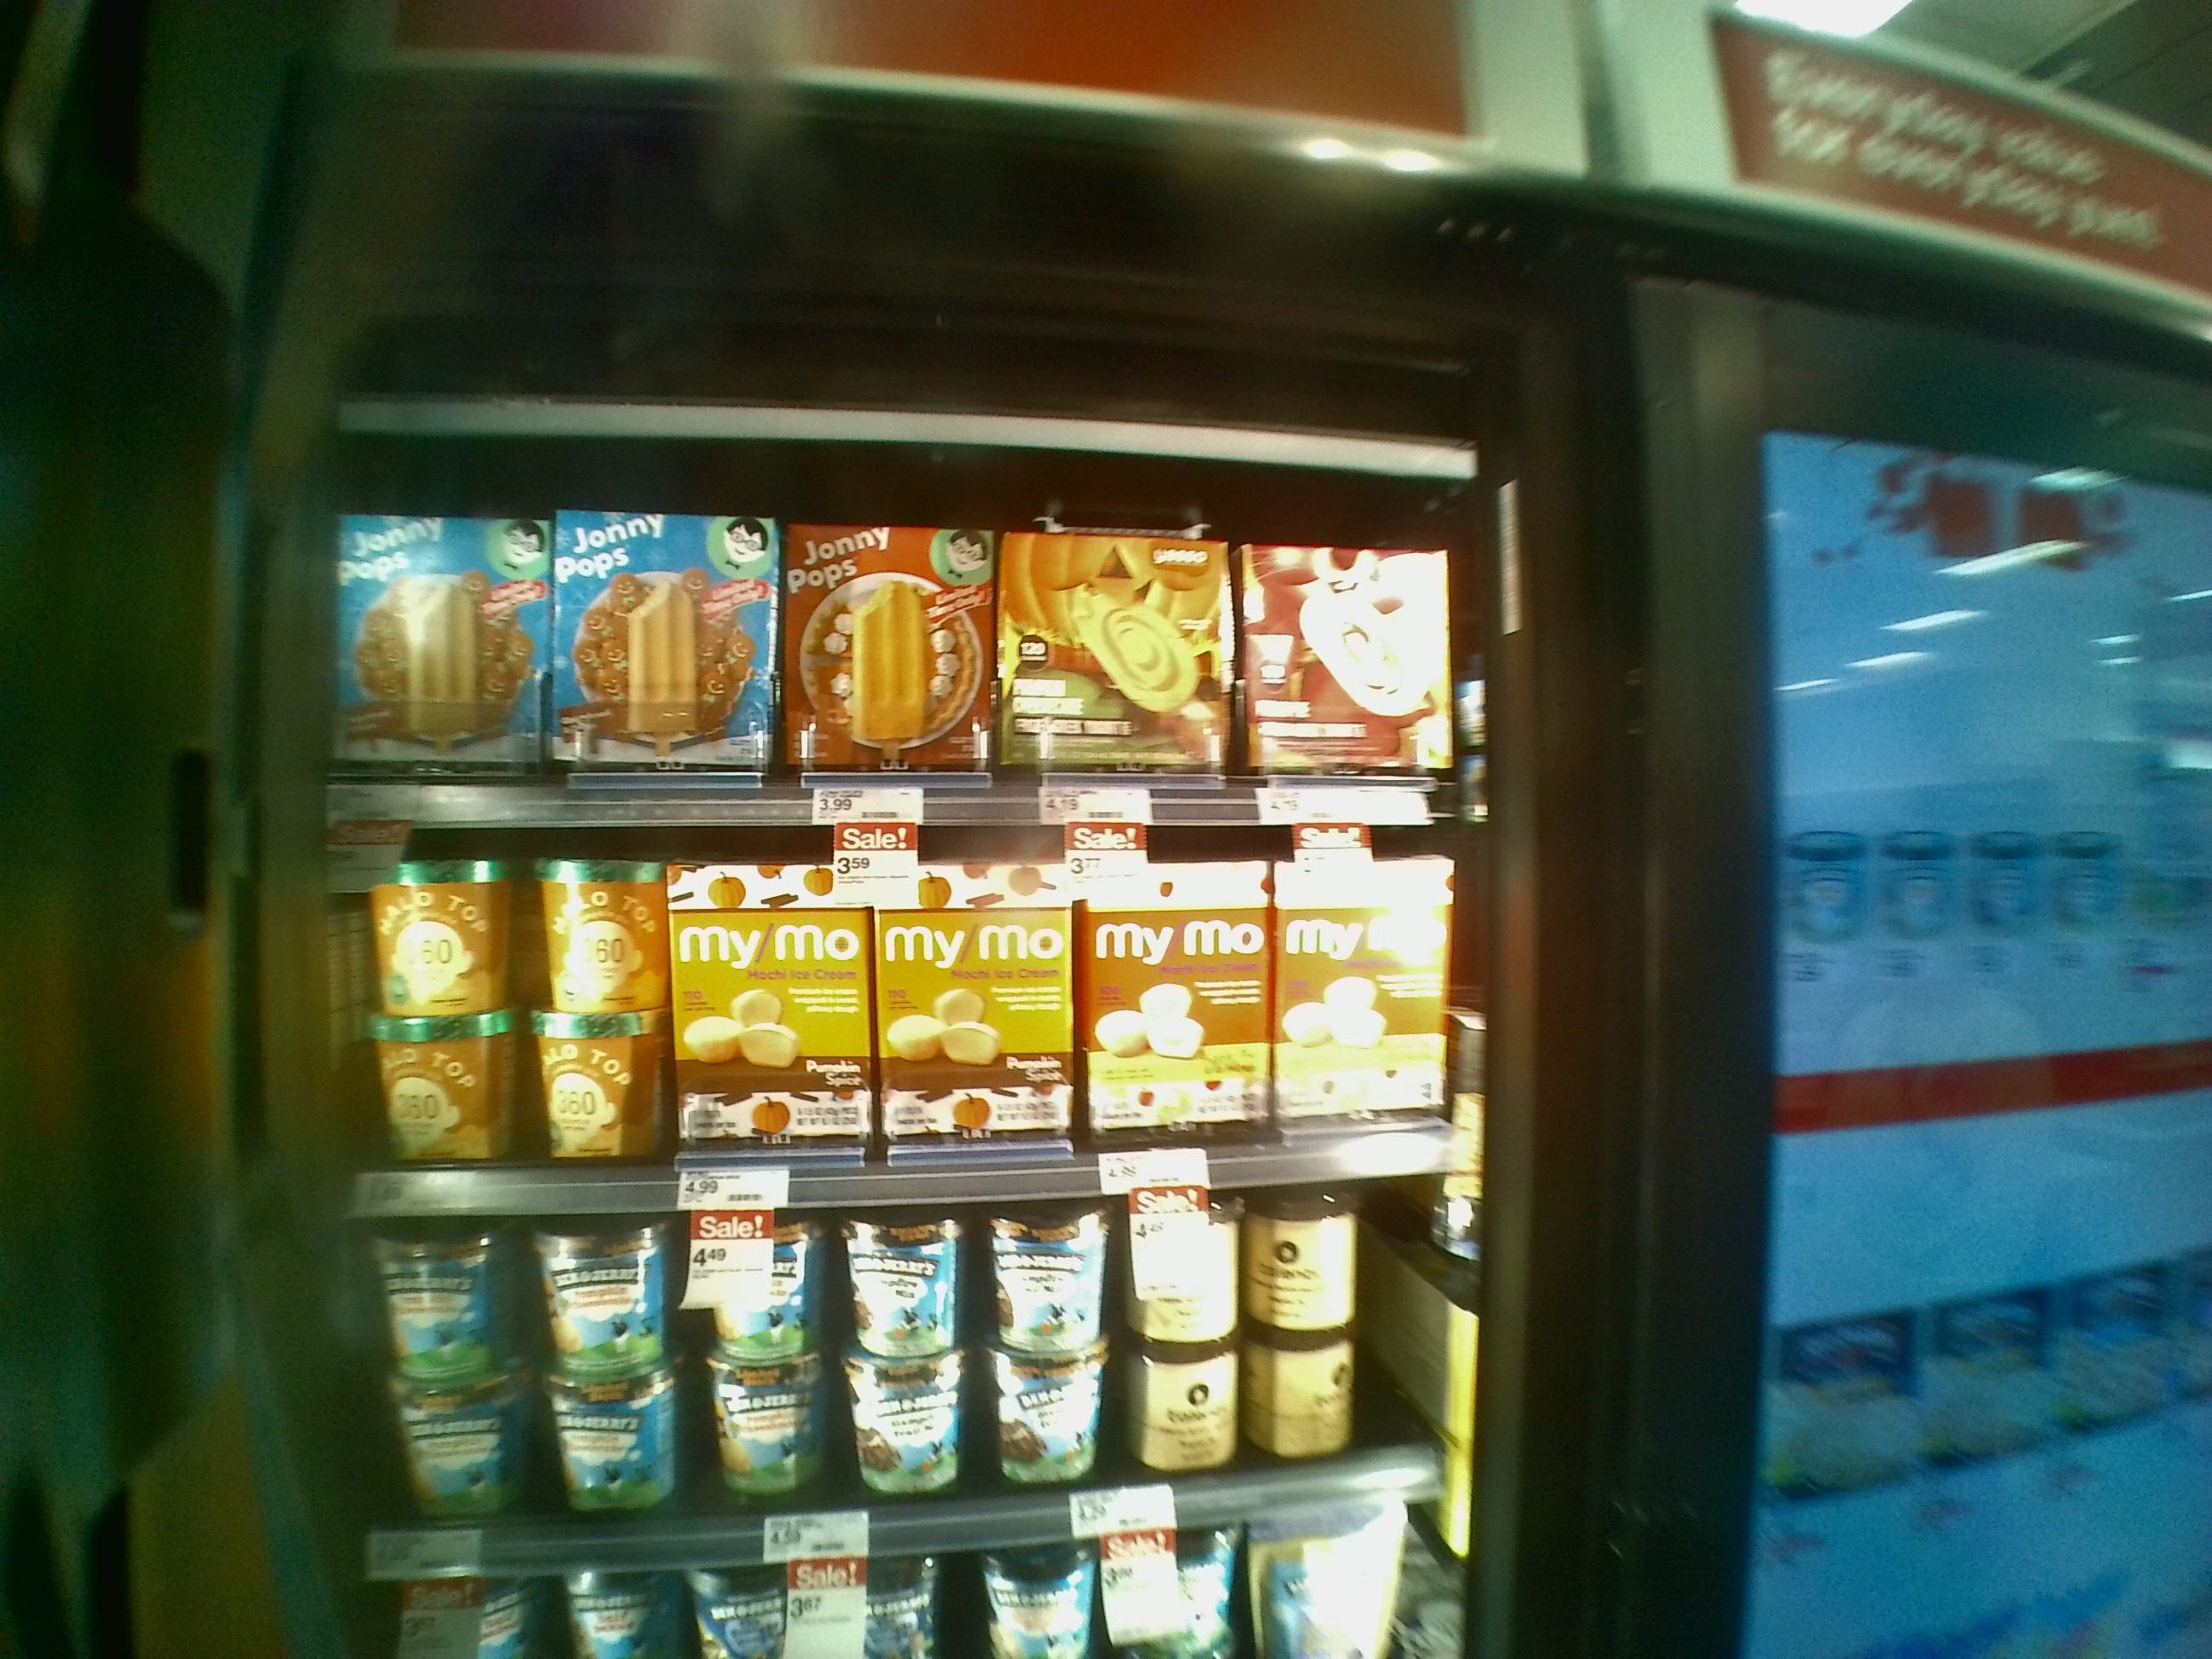shelf: (291, 779, 1484, 1166), (303, 429, 1468, 816), (294, 1180, 1479, 1513)
